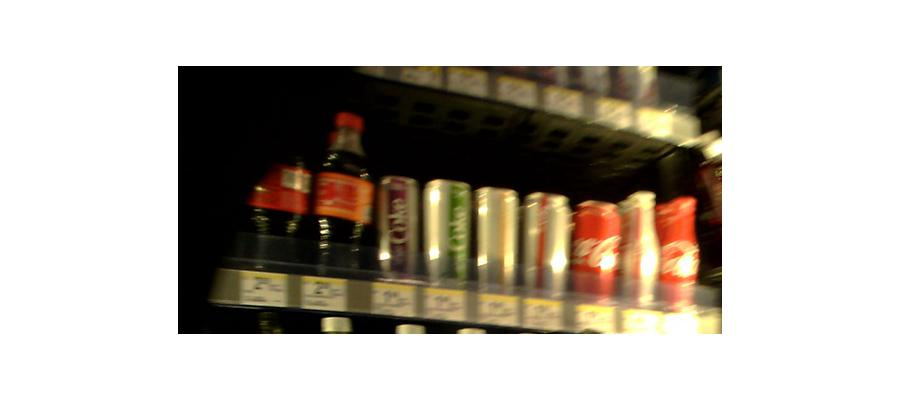bottle: (314, 105, 373, 275), (254, 131, 309, 268), (377, 143, 421, 280), (518, 190, 571, 298), (657, 193, 703, 316), (474, 179, 520, 298), (571, 197, 620, 308), (424, 178, 472, 286), (620, 189, 659, 309)
